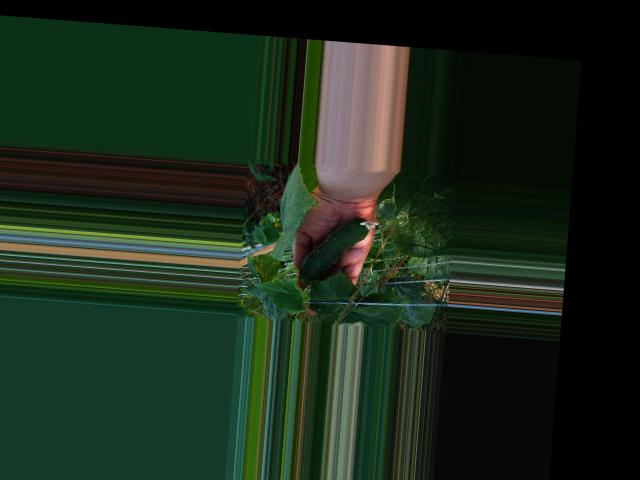cucumber: (299, 213, 380, 286)
